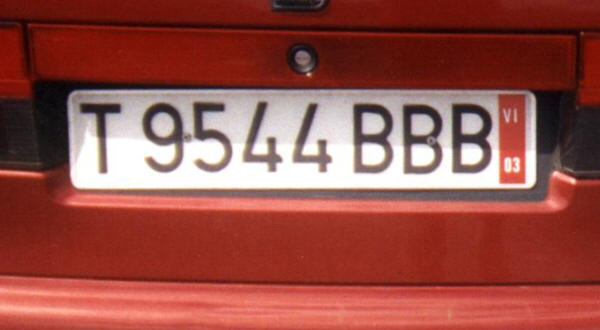license_plate: (66, 89, 537, 192)
